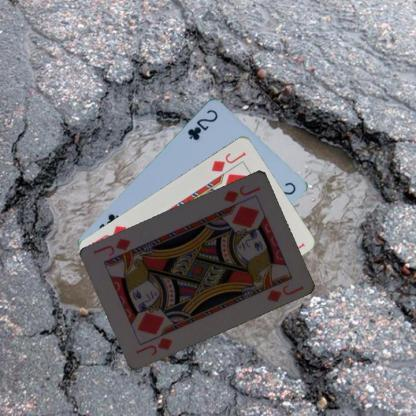2c: (185, 106, 219, 141)
Jd: (208, 148, 248, 174), (133, 334, 174, 356), (222, 182, 262, 204)
